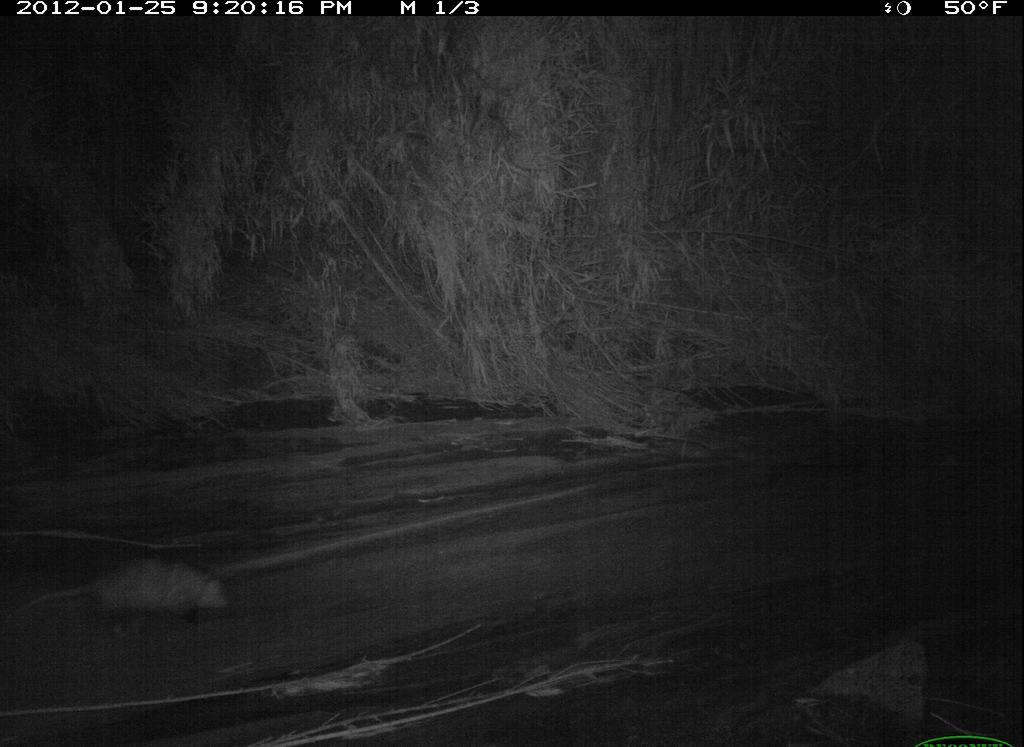opossum: (13, 546, 242, 648)
